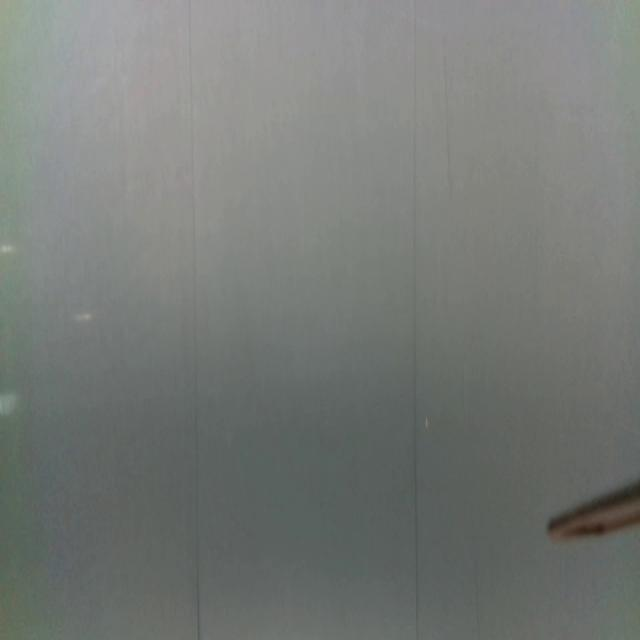crease: (187, 1, 202, 640), (411, 1, 420, 640), (443, 53, 454, 205)
